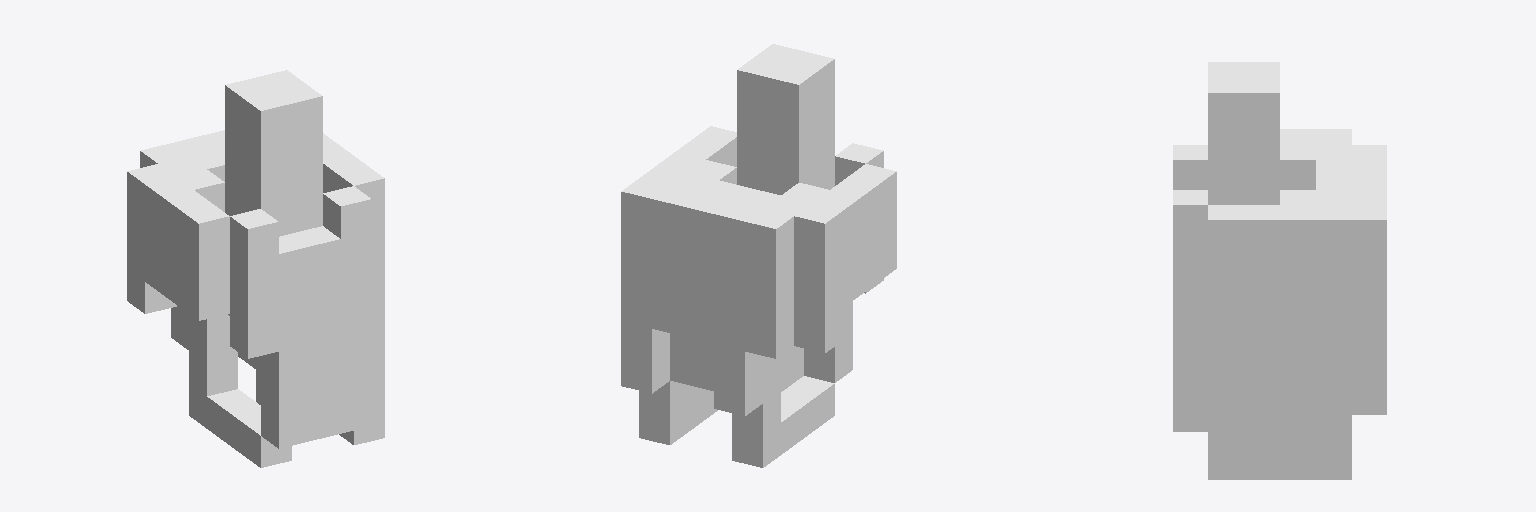
Rendered from Leg-20.obj.
The picture shows the model from 3 angles: view 1: azimuth 30°, elevation 25°; view 2: azimuth 150°, elevation 25°; view 3: azimuth 270°, elevation 25°; orthographic projection.
Visible parts, largest first — view 1: object 1; view 2: object 1; view 3: object 1.
Part boxes in pixels (bbox=[...]): object 1: bbox=[127, 70, 384, 467]; object 1: bbox=[621, 44, 896, 467]; object 1: bbox=[1173, 62, 1386, 479].
Bounding box in the file's own units: 0.6 × 1.1 × 0.6.